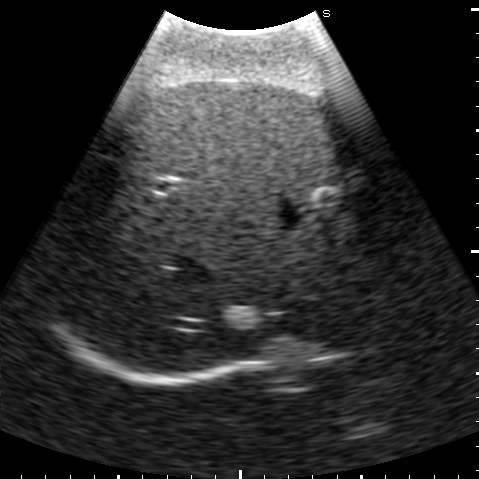S5: (125, 78, 355, 209)
S7: (53, 176, 173, 345)
S8: (132, 191, 390, 375)
Tumor: (224, 306, 261, 330), (311, 185, 340, 204)
